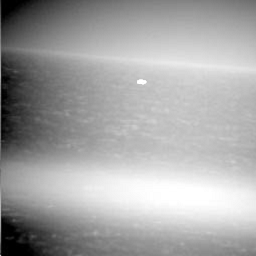Target: (136, 77, 149, 86)
